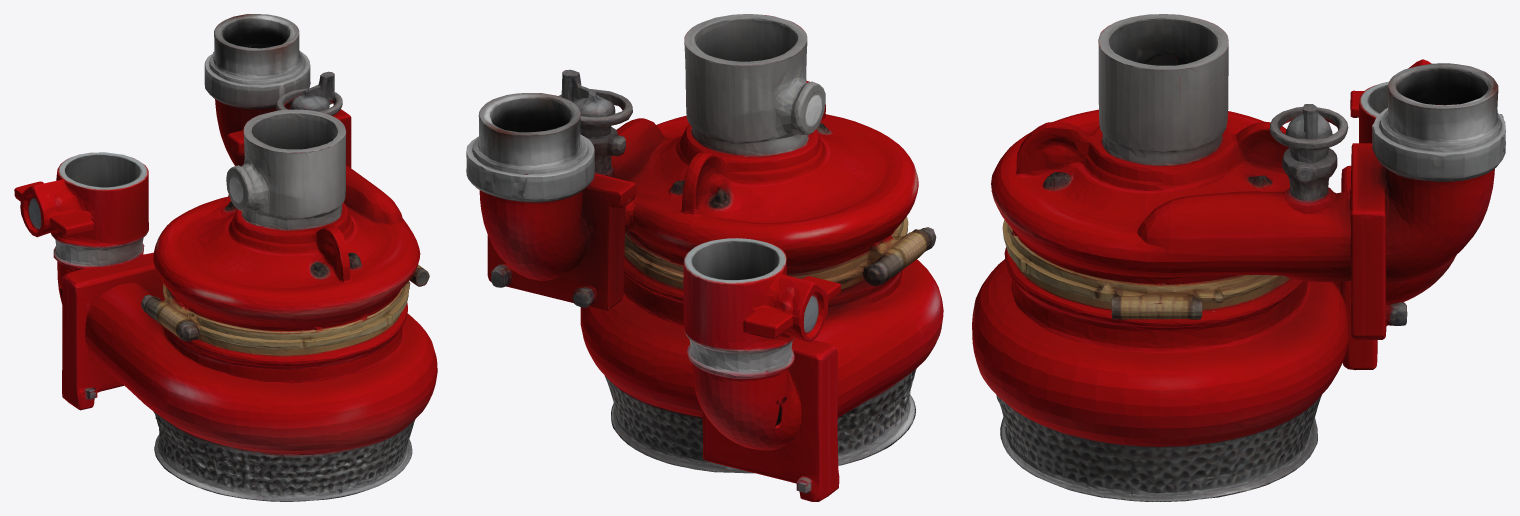
3 views of the same model, side by side, from view 1: azimuth 30°, elevation 25°; view 2: azimuth 150°, elevation 25°; view 3: azimuth 270°, elevation 25° (orthographic). The views are drawn at different scales.
Parts seen in each view (by area): view 1: world; view 2: world; view 3: world.
Part boxes in pixels (x1,y1,x2,y2): world: (14, 14, 437, 501); world: (466, 14, 943, 501); world: (972, 14, 1505, 501).
Bounding box in the file's own units: 0.7972 × 0.8275 × 0.9992.
Materials: 1 (1 with a texture image).
